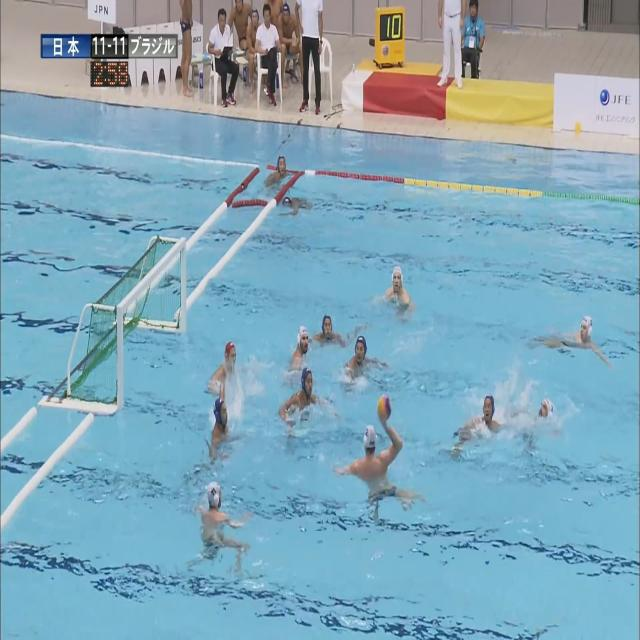ball: (378, 395, 390, 419)
